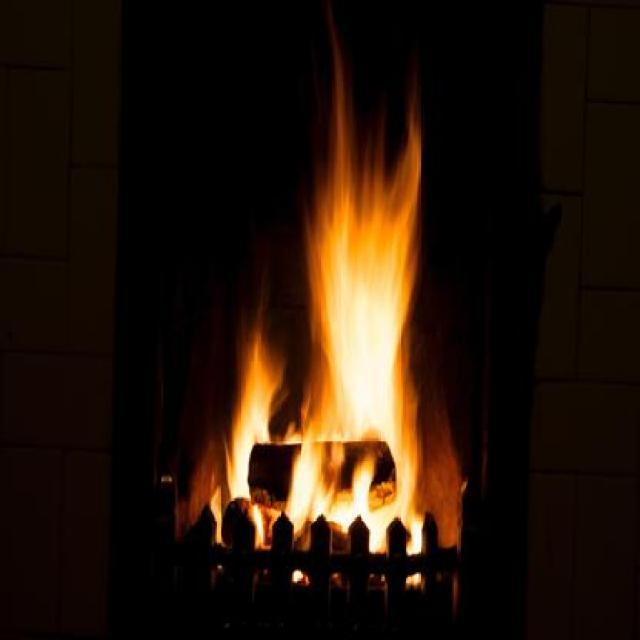Fire: (145, 2, 479, 620)
